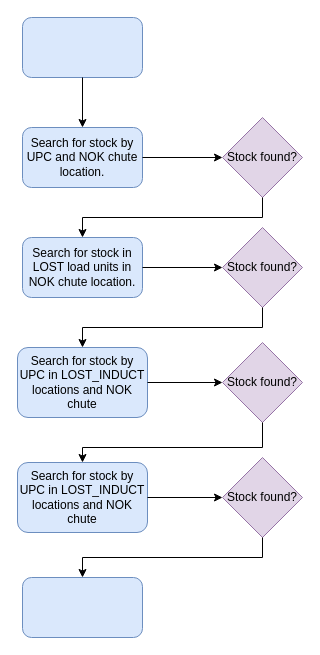
Image size: 320x655. Some labels were removed from this diagram. Here are the shapes that lost their labels. From the top down, the centre of each, then its label:
the point at 82,47: Scan UPC
the point at 82,607: Search for pickable NOK chute items by UPC in putwall
